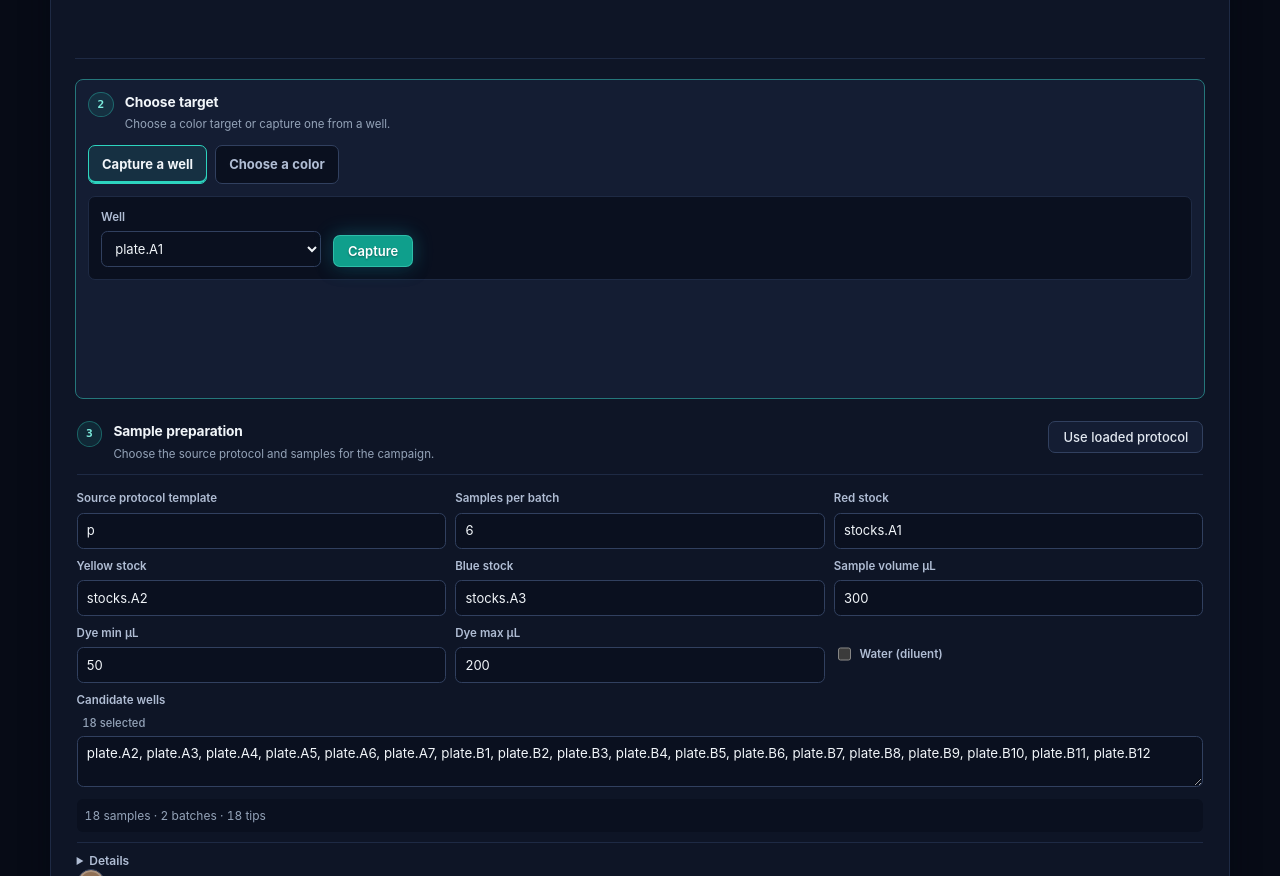
it: builds the color-matching campaign preset
This screenshot has width=1280, height=876.
(page scrolled)
Click the button "Use loaded protocol".
click(1126, 437)  # box [1048,421,1203,453]
(page scrolled)
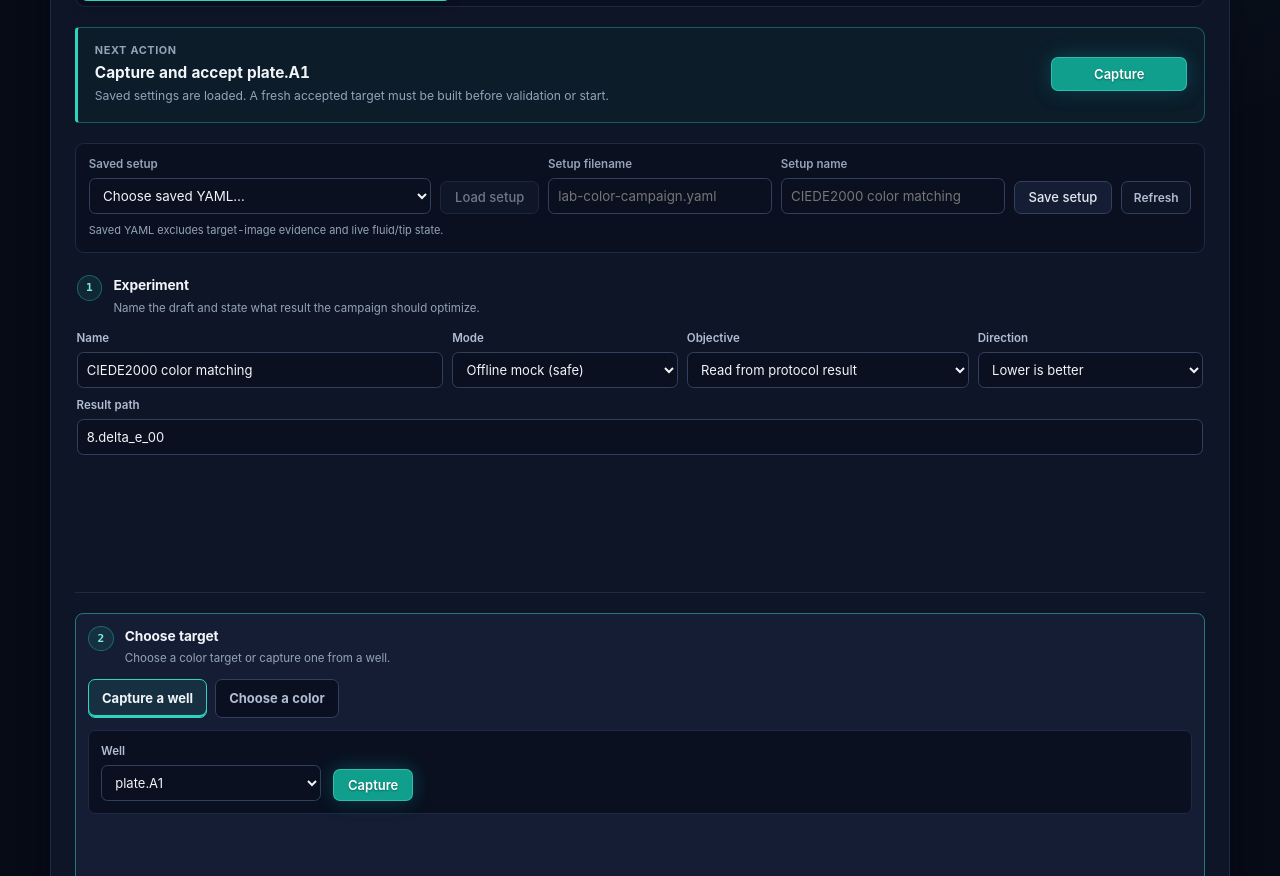
Now the field named "Campaign name" holds "CIEDE2000 color matching", box [77,352,443,388]
Now the field named "Objective result path" holds "8.delta_e_00", box [77,419,1203,455]
